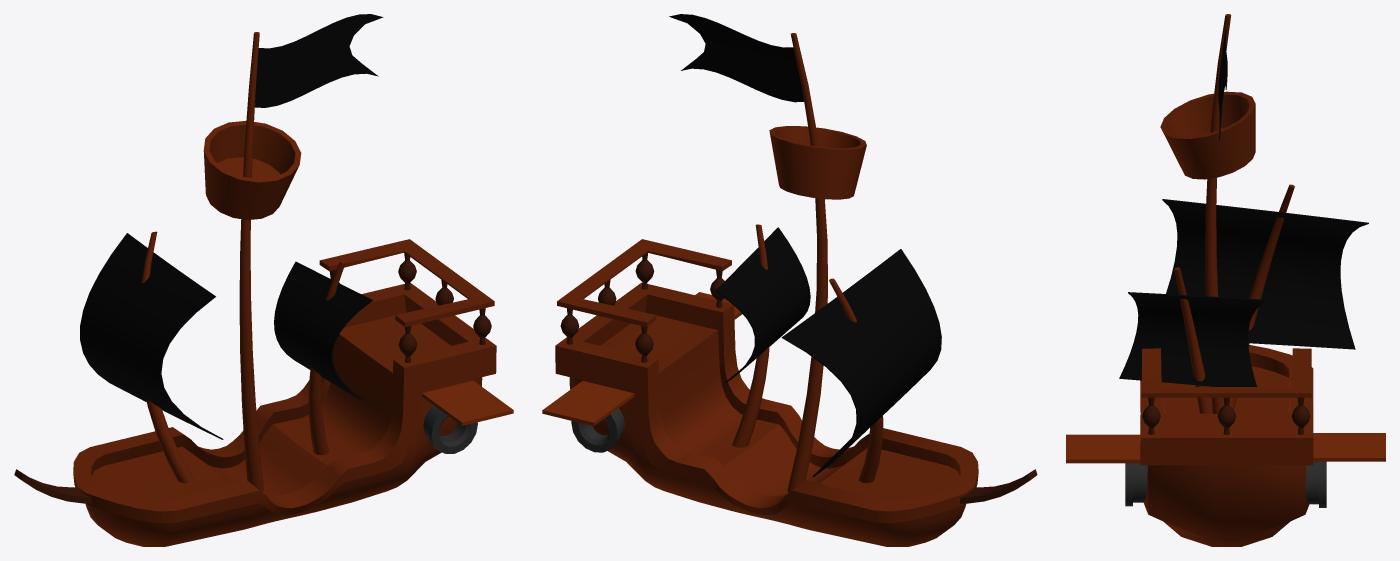
Rendered from 3D_Pirate_Ship.FBX.
3 renders of one model, left to right at view 1: azimuth 30°, elevation 25°; view 2: azimuth 150°, elevation 25°; view 3: azimuth 270°, elevation 25°, orthographic.
Parts seen in each view (by area): view 1: 3D_Pirate_Ship; view 2: 3D_Pirate_Ship; view 3: 3D_Pirate_Ship.
Part boxes in pixels (x1,y1,x2,y2): 3D_Pirate_Ship: (14, 14, 513, 546); 3D_Pirate_Ship: (542, 14, 1037, 546); 3D_Pirate_Ship: (1066, 14, 1385, 546).
Size of the model in its own units: 375 by 397 by 239.
